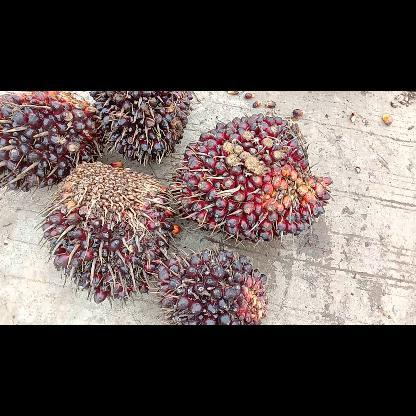TBS mentah: (169, 113, 330, 243), (36, 162, 174, 308), (0, 91, 106, 195), (151, 244, 267, 324), (89, 91, 191, 164)
